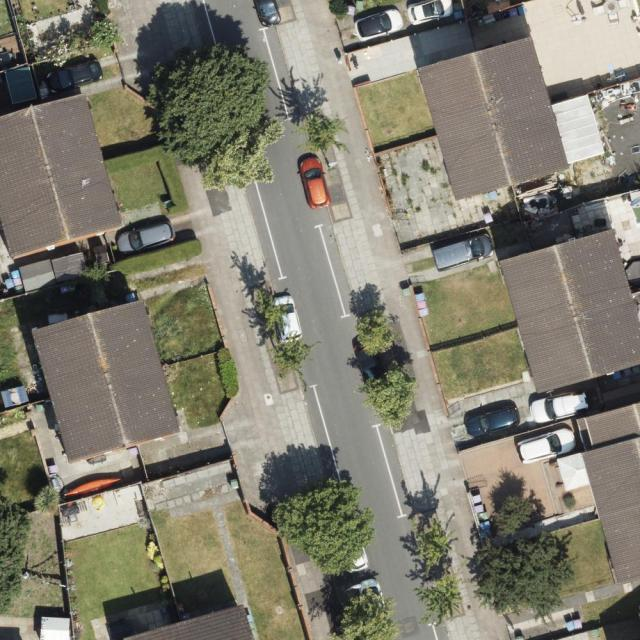roof: (414, 33, 609, 201), (31, 299, 181, 462), (498, 225, 640, 394), (0, 92, 124, 260), (556, 403, 640, 589), (121, 604, 255, 640)
